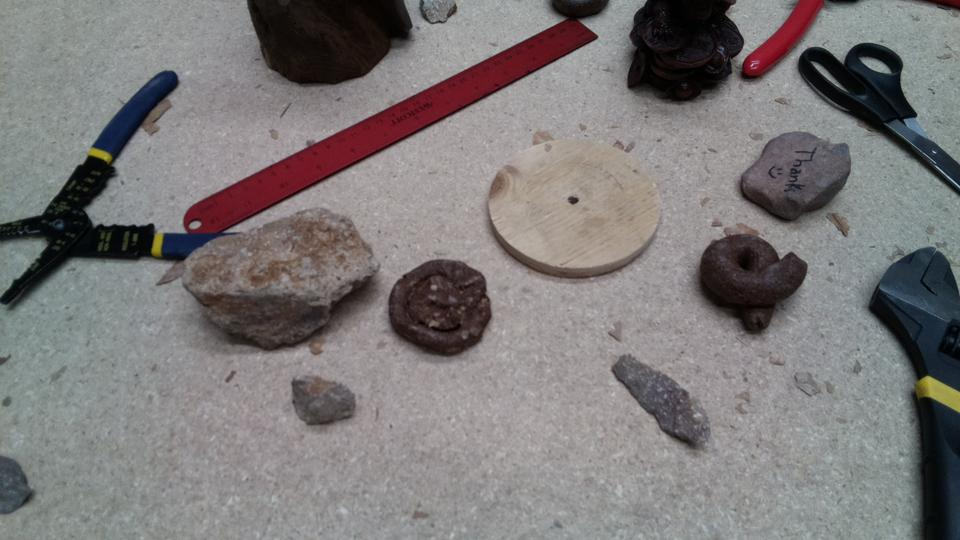poop: (695, 231, 811, 336), (386, 257, 494, 357)
